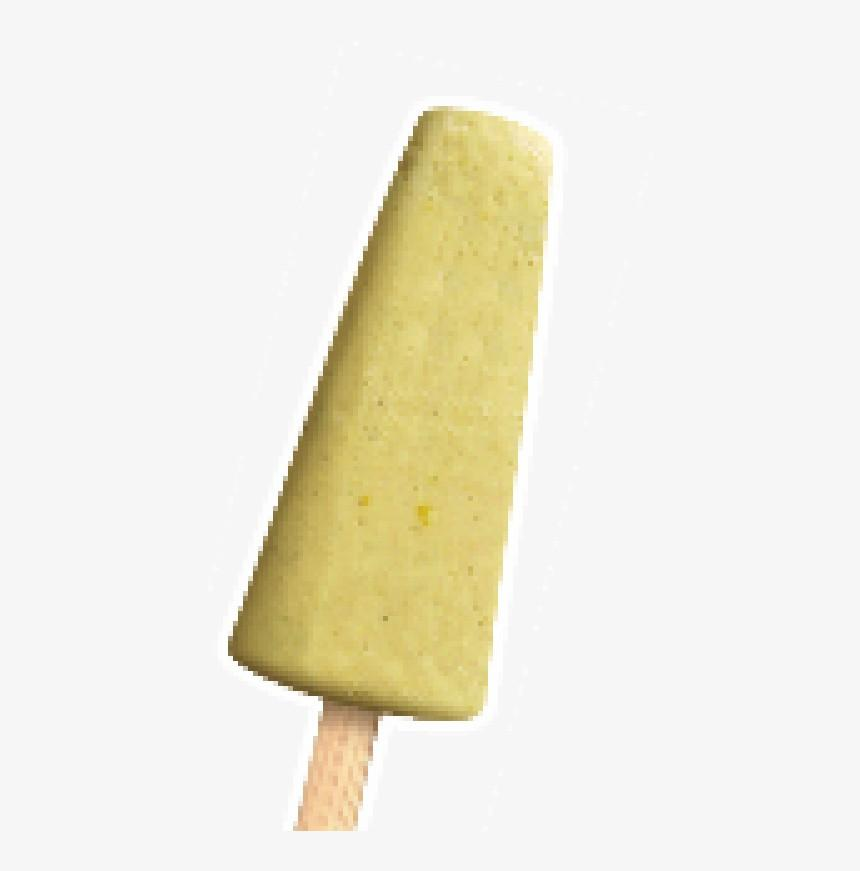Kulfi: (216, 104, 556, 725)
